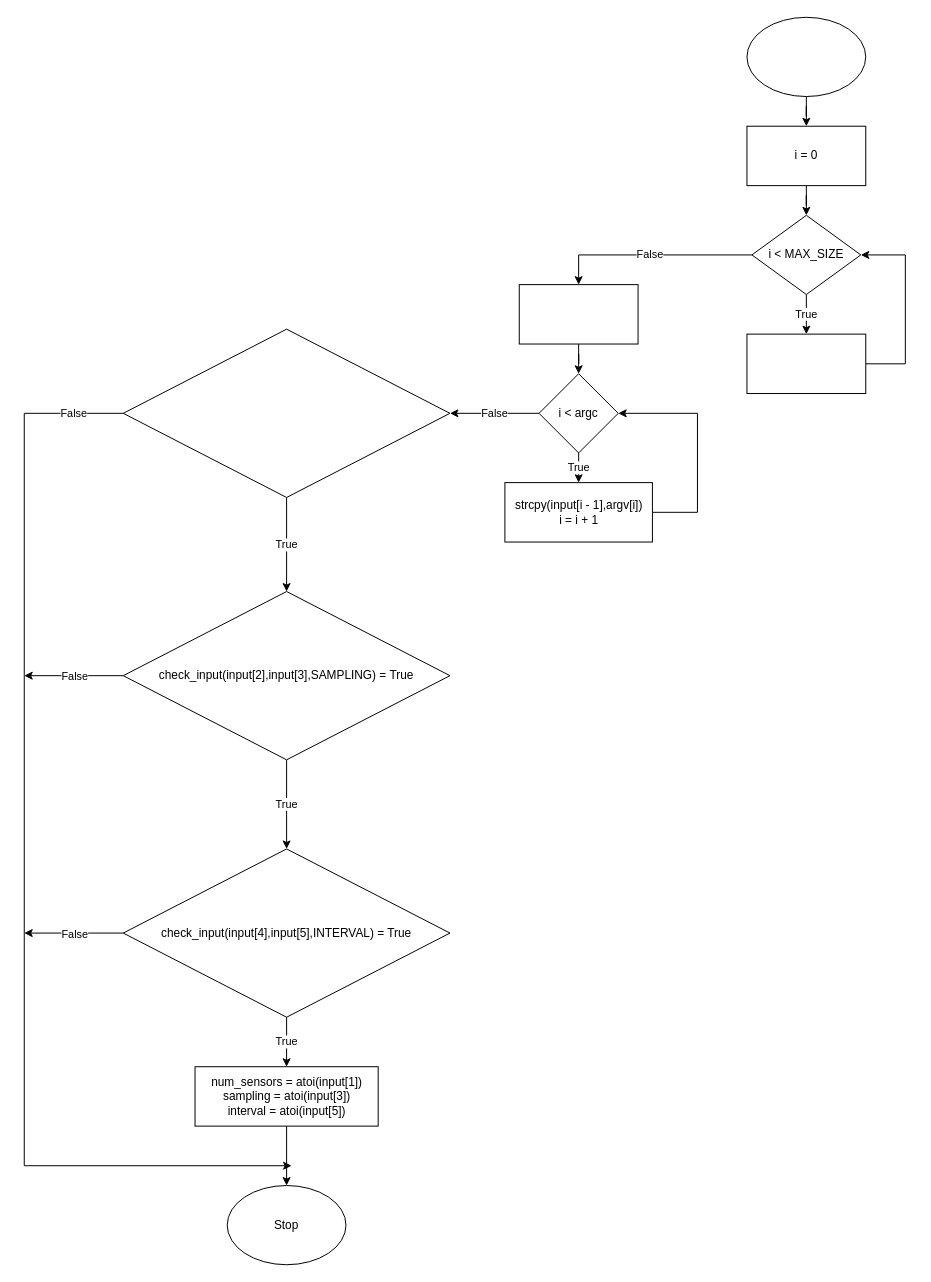
Some shapes in this 931 by 1282 pixel diagram are drawn without their labels. The shapes that lost their labels are listed below. From the top down, each one's centre as x and y in pixels, then its label:
[806,56]: Start
[578,314]: i = 1
[806,363]: strcpy(input[i],"") i = i + 1
[286,412]: check_input(input[0],input[1],NUM_SENSORS) = True
